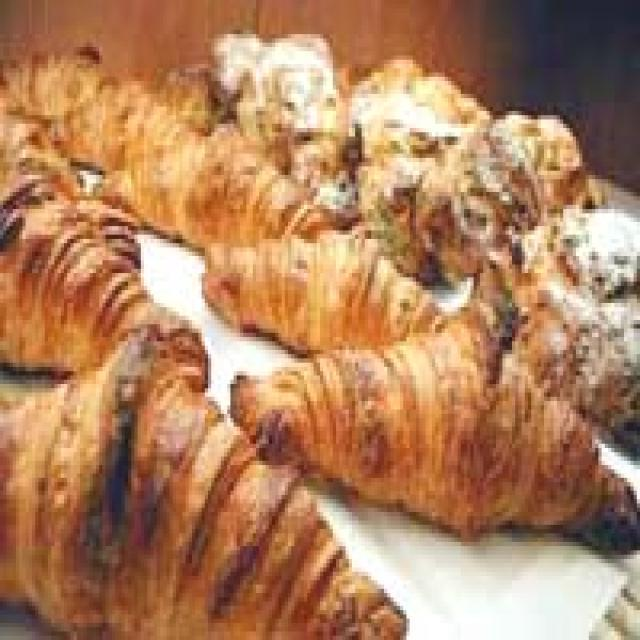Croissant: (215, 290, 640, 560)
